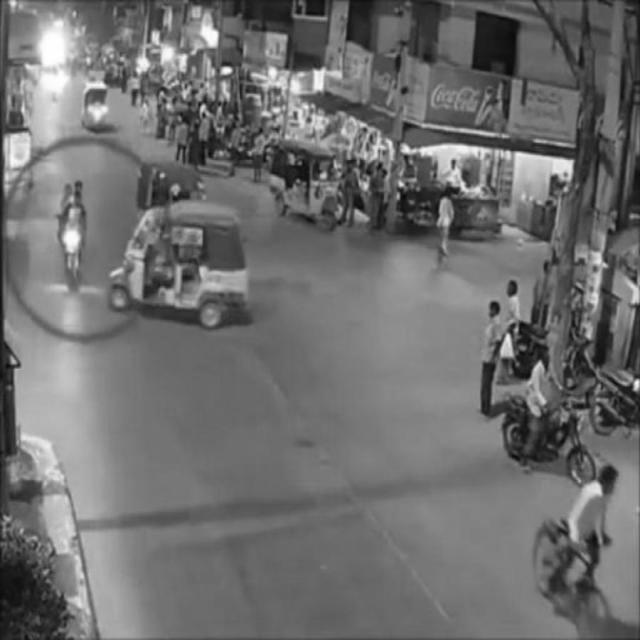person: (478, 301, 498, 417), (499, 277, 519, 387), (436, 189, 453, 260)
vehicle: (107, 197, 249, 333), (532, 464, 620, 634), (502, 348, 600, 485), (271, 143, 343, 235), (55, 181, 90, 294)
